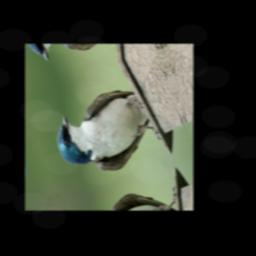Swallow: (47, 75, 165, 191)
